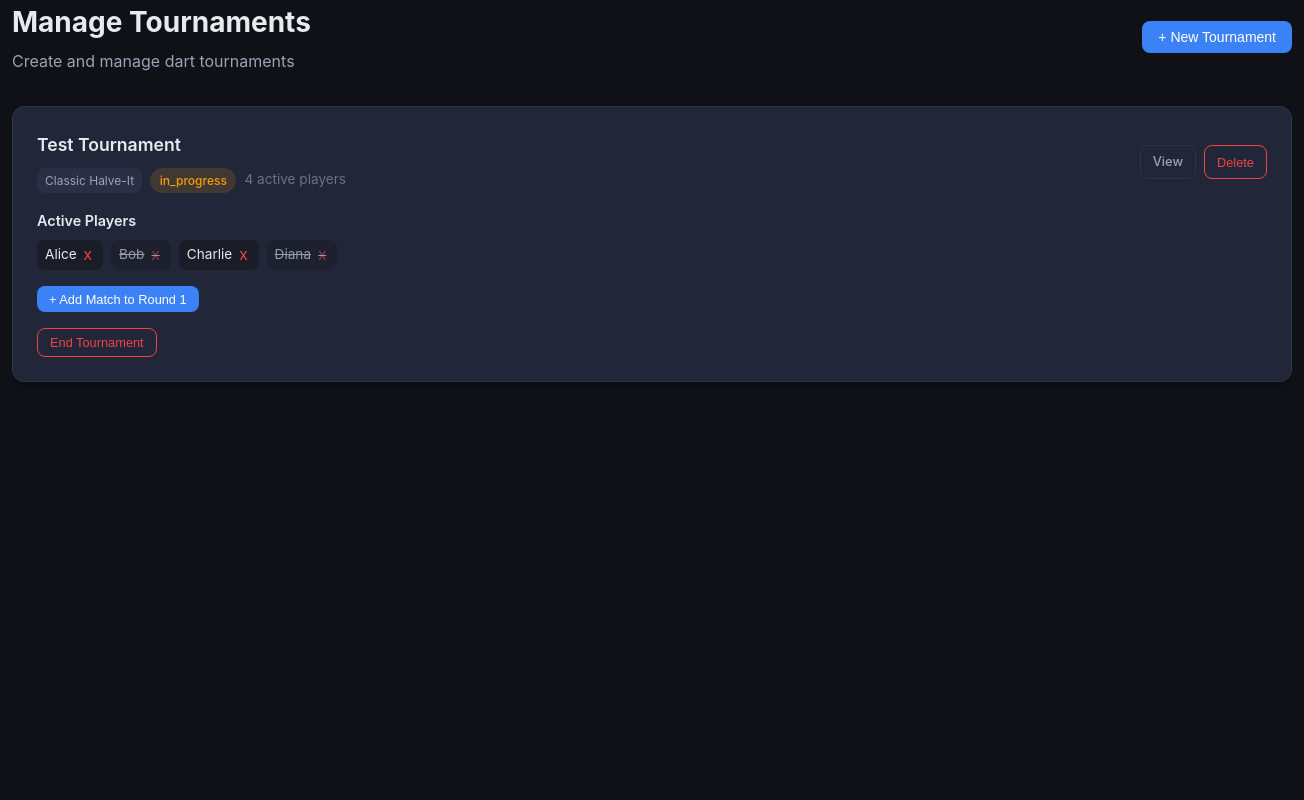
Test: ManageTournamentsPage — flexible round planning › switches to round 2 planning when "Start Round 2" is clicked
Open match UI
Click the button "+ Add Match to Round 1".
click(118, 299)  # box [37,286,199,312]
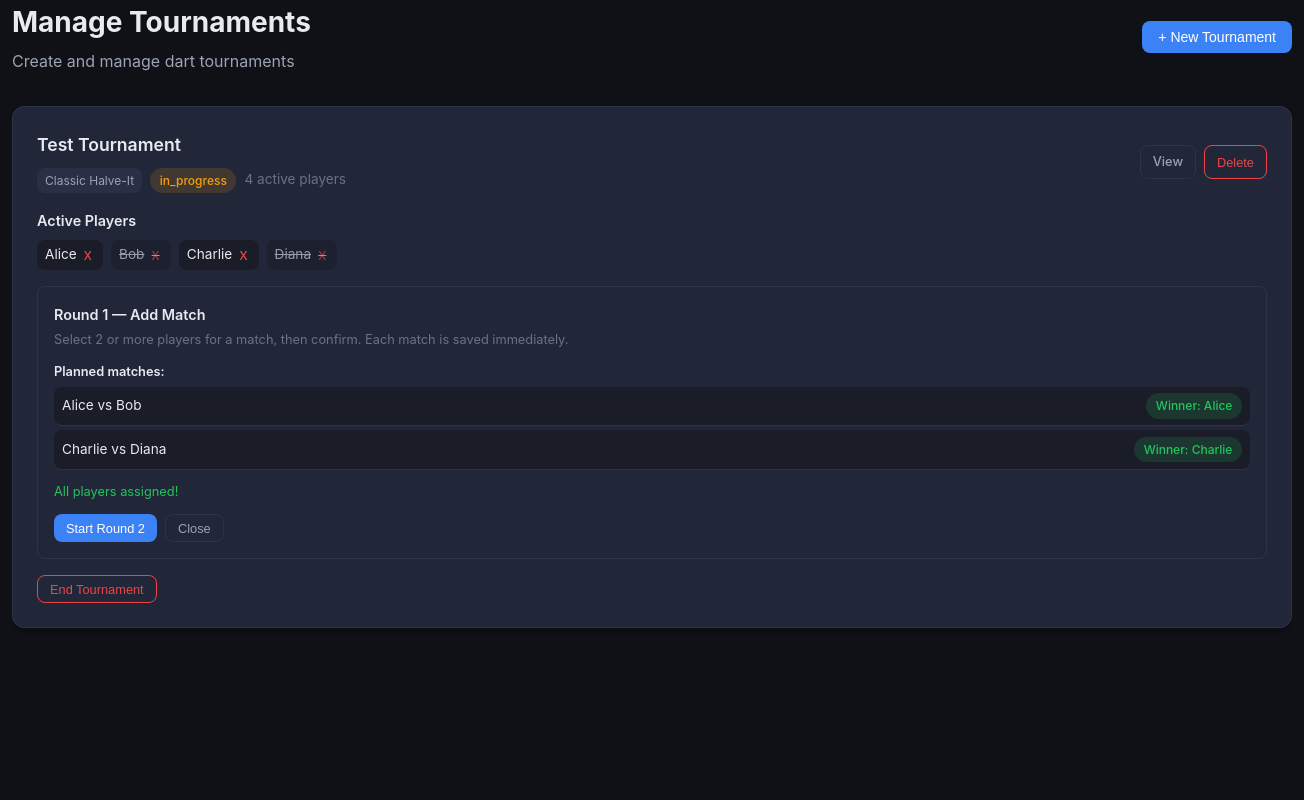
Click "Start Round 2"
Click the button "Start Round 2".
click(106, 528)  # box [54,514,157,542]
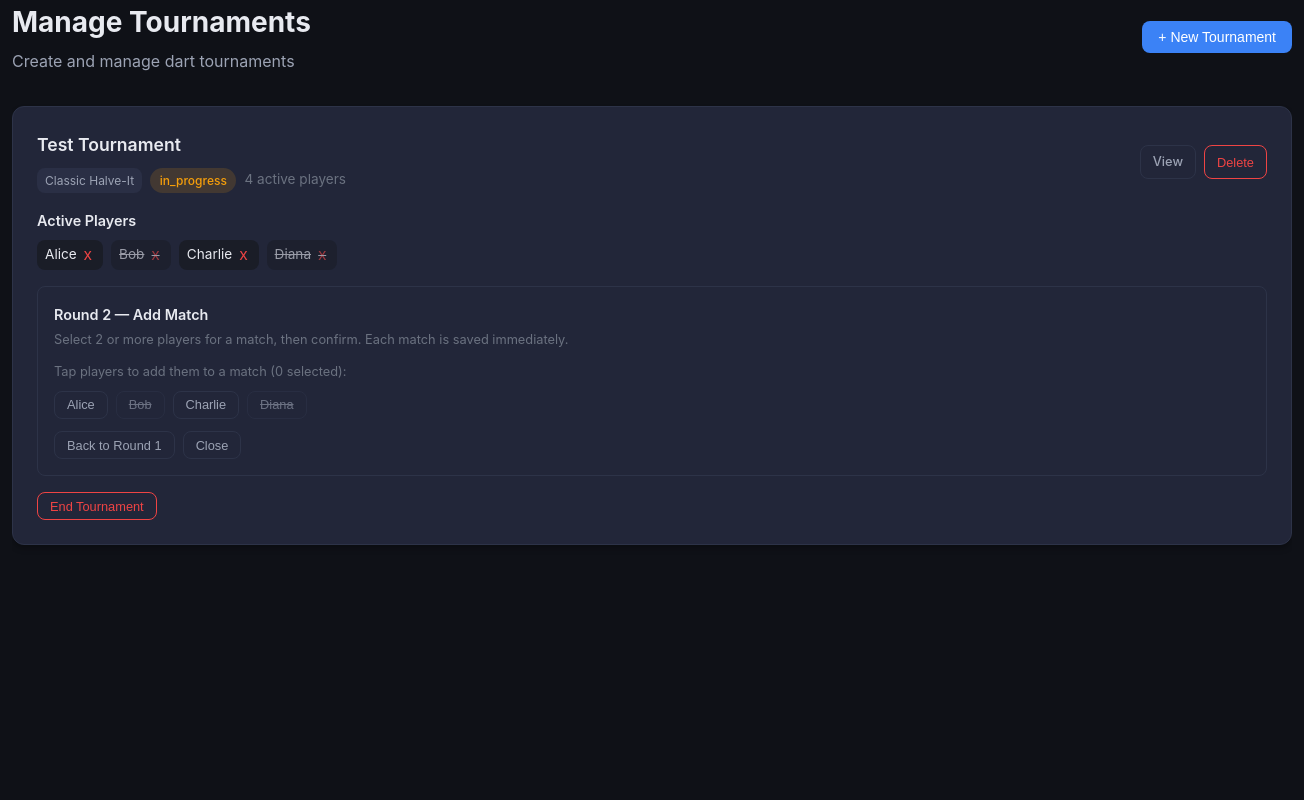
Expected: the heading "Round 2 — Add Match" is shown, [54,306,208,323]
Expected: the button "Back to Round 1" is shown, [54,431,175,459]
